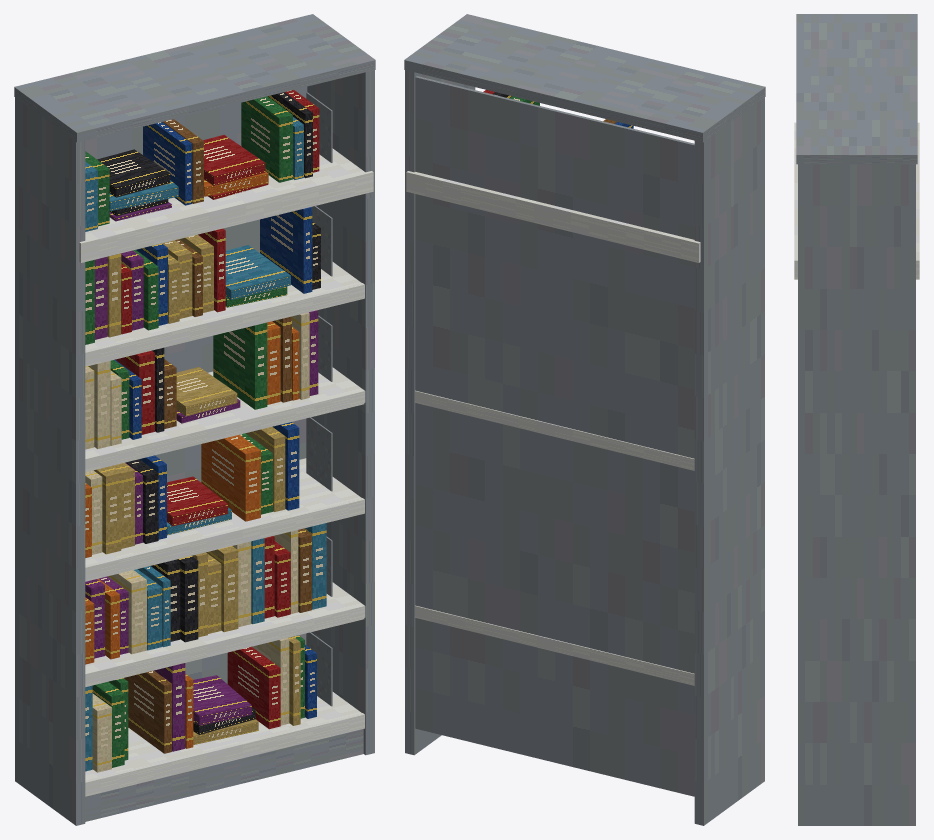
File: LibraryBay_Normal.fbx
The picture shows the model from 3 angles, left to right: view 1: azimuth 30°, elevation 25°; view 2: azimuth 150°, elevation 25°; view 3: azimuth 270°, elevation 25°; orthographic projection. The views are drawn at different scales.
Parts seen in each view (by area): view 1: LibraryBay.001; view 2: LibraryBay.001; view 3: LibraryBay.001.
Part boxes in pixels (x1=…): LibraryBay.001: x1=14, y1=14, x2=375, y2=825; LibraryBay.001: x1=404, y1=14, x2=765, y2=825; LibraryBay.001: x1=794, y1=14, x2=919, y2=825.
Bounding box in the file's own units: 96 × 213 × 36.
